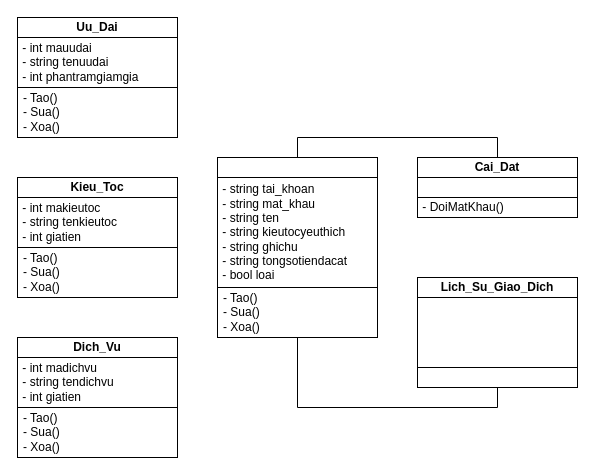
This 595x475 diagram has some shape labels left out. Each missing label, with the box of its shape:
- string malsgg - string ten - string ngaythanhtoan - string tongsotienthanhtoan: (416, 296, 578, 368)
- TongTien(): (416, 366, 578, 388)
Nguoi_Dung: (216, 156, 378, 178)
